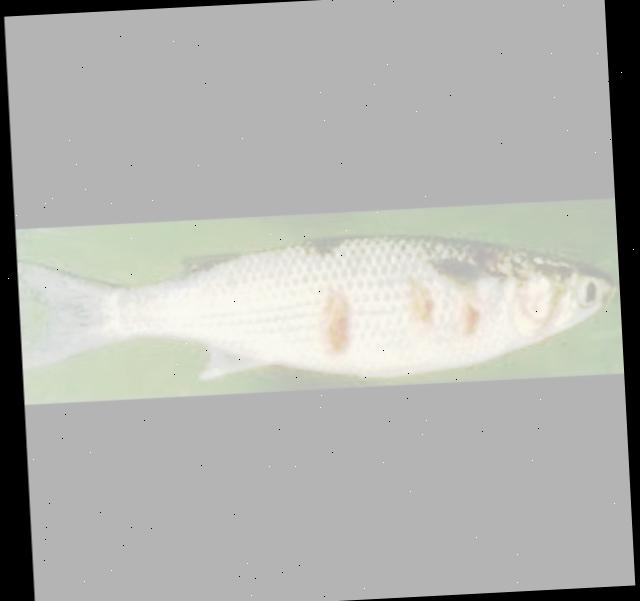Epizootic Ulcerative Syndrome -EUS-: (18, 235, 614, 377), (27, 235, 614, 377)
